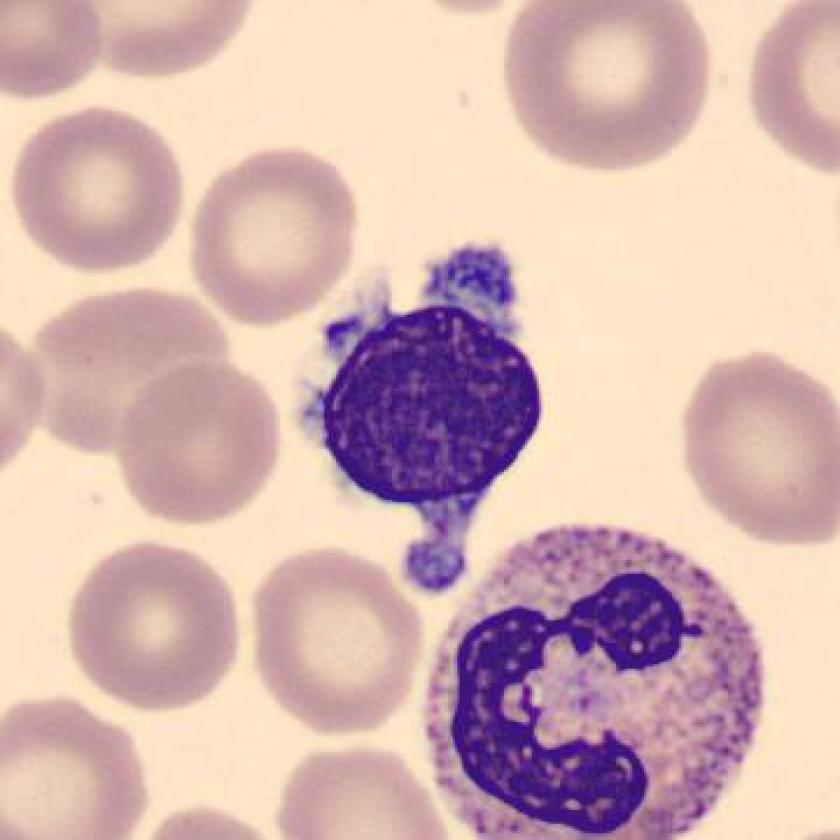lymphocyte: (283, 223, 561, 607)
neutrophil: (419, 513, 774, 840)
